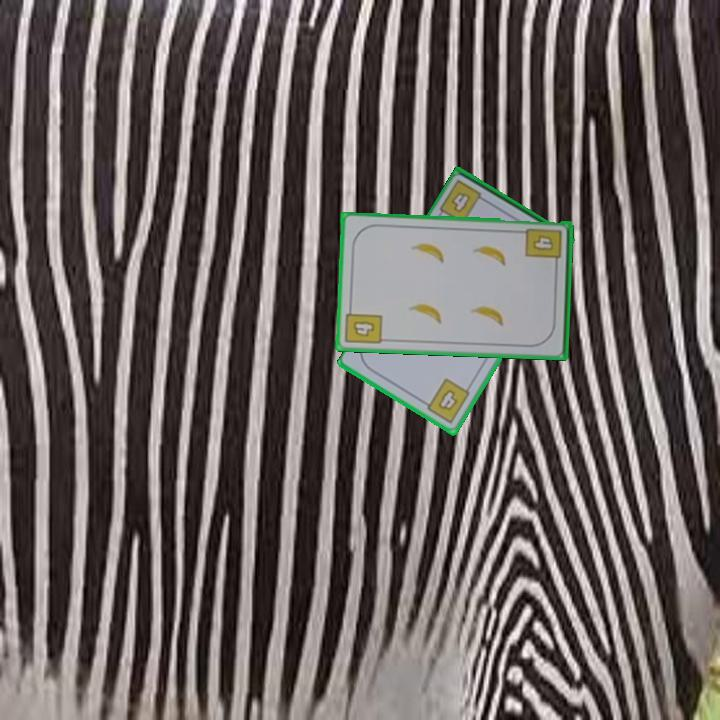4b: (436, 176, 492, 226), (419, 375, 473, 426), (342, 302, 385, 347), (522, 225, 565, 269)
